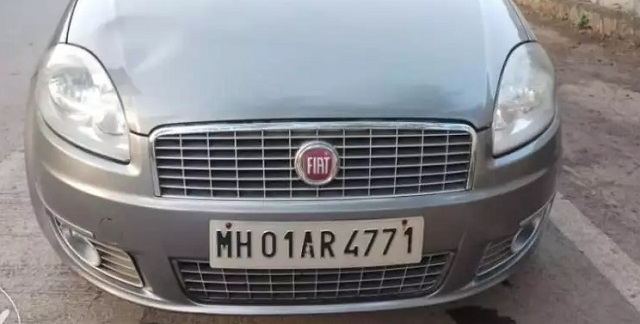licenseplate: (205, 215, 429, 269)
